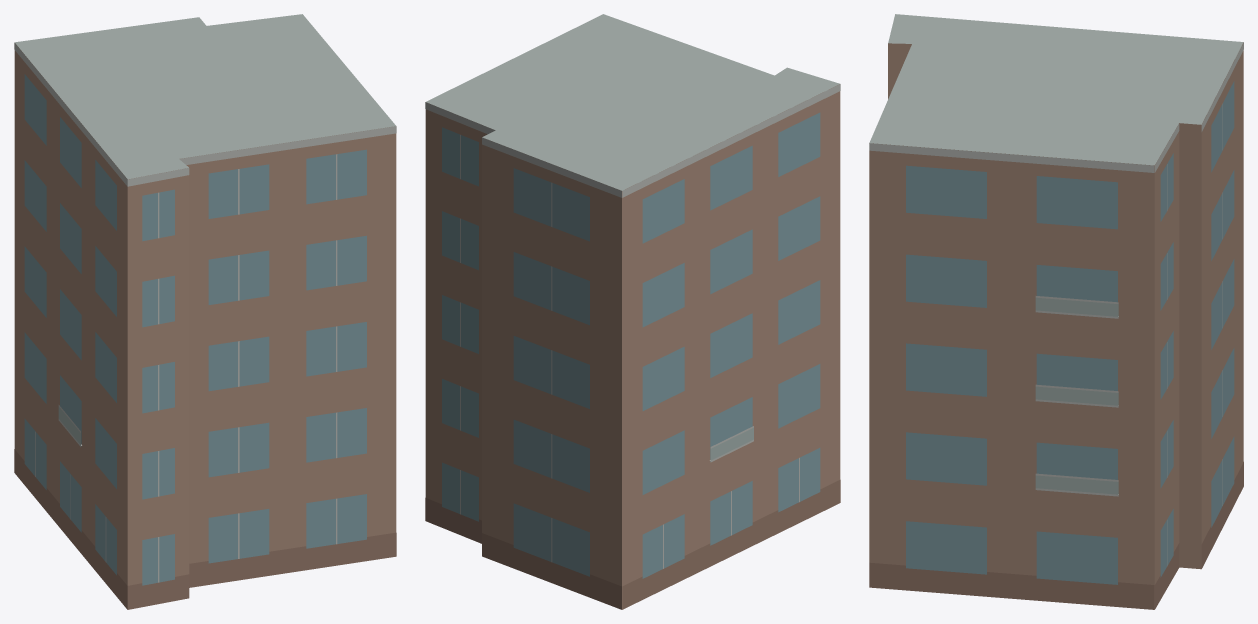
The model's file is survey-upis-32646401.glb.
The picture shows the model from 3 angles, left to right: view 1: azimuth 30°, elevation 25°; view 2: azimuth 150°, elevation 25°; view 3: azimuth 270°, elevation 25°; orthographic projection. The views are drawn at different scales.
Visible parts, largest first — view 1: survey-upis-32646401.tmp; view 2: survey-upis-32646401.tmp; view 3: survey-upis-32646401.tmp.
Part boxes in pixels (x1,y1,x2,y2): survey-upis-32646401.tmp: (14, 14, 396, 609); survey-upis-32646401.tmp: (425, 14, 840, 609); survey-upis-32646401.tmp: (869, 14, 1243, 609).
Size of the model in its own units: 10.46 by 14.3 by 10.93.
